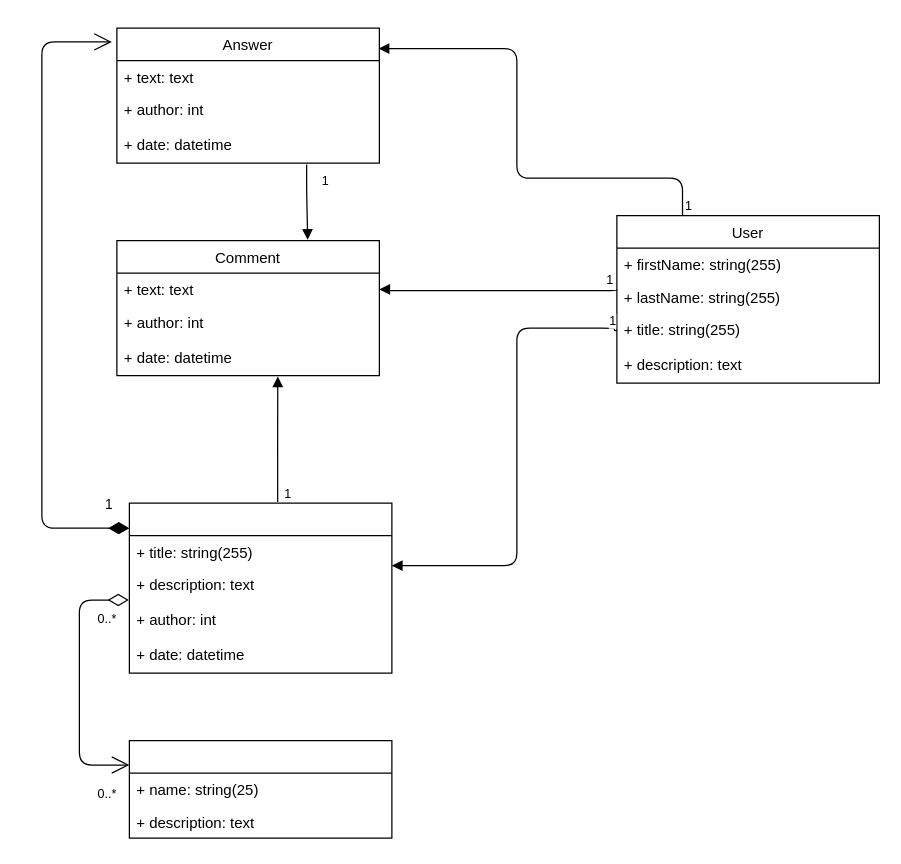
The diagram is 901 pixels wide and 864 high, and some of its shapes have lost their labels. The shapes that lost their labels are listed below. From the top down, each one's box as (x1, y1, x2, y2) in pixels, then its label:
(128, 502, 392, 673): Question
(128, 739, 392, 838): Tag
